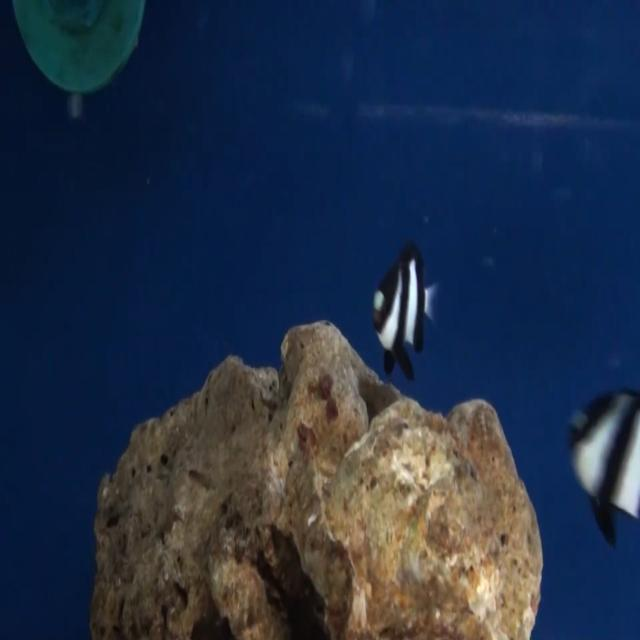ThreeStripedDamselfish: (372, 243, 435, 382)
